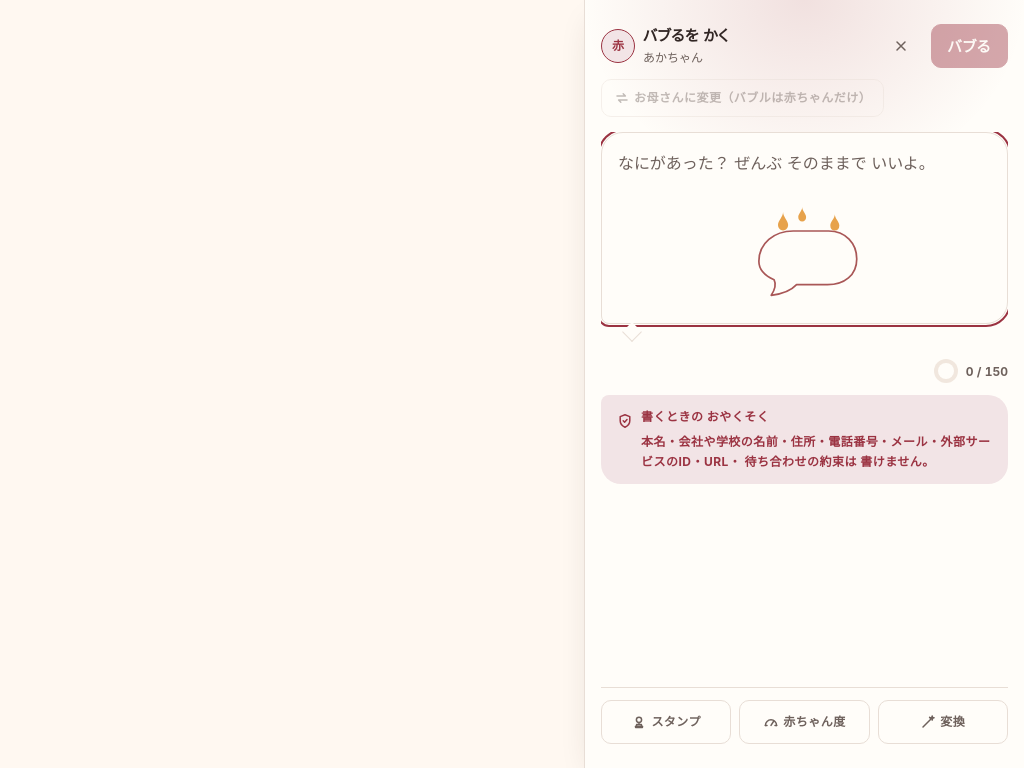
Test: composer behavior after component extraction › retains the draft and displays moderation rejection
The image size is (1024, 768).
Type "下書き" into the text box at (804, 228), box [601,132,1008,324]
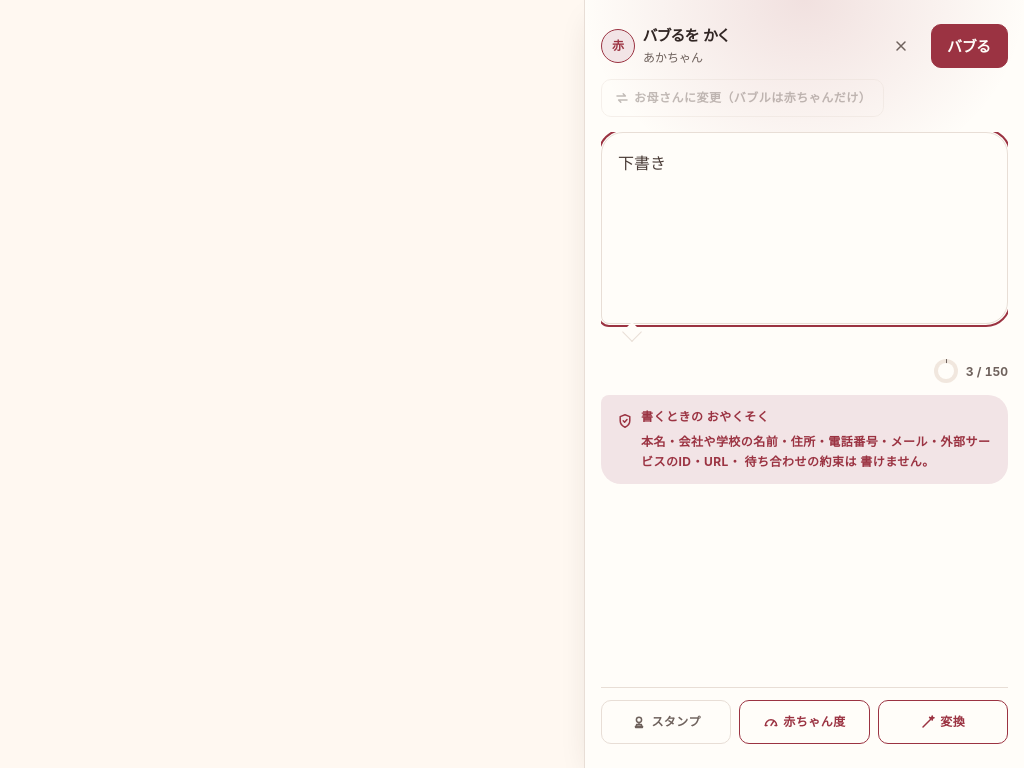
Click the button "バブる" at (969, 46), box [930,24,1008,68]
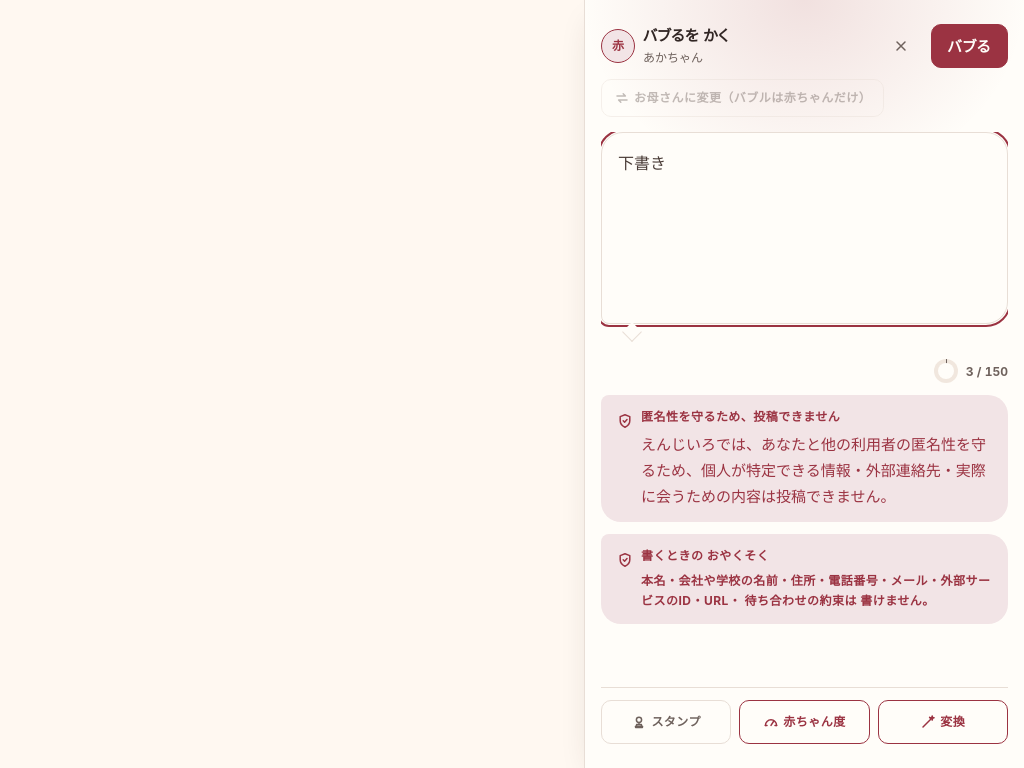
Expected: the message that starts with "匿名性を守るため、投稿できません" is shown, [601,395,1008,522]
